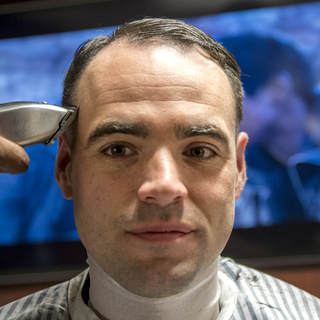eye: (179, 140, 222, 165), (94, 140, 142, 161)
